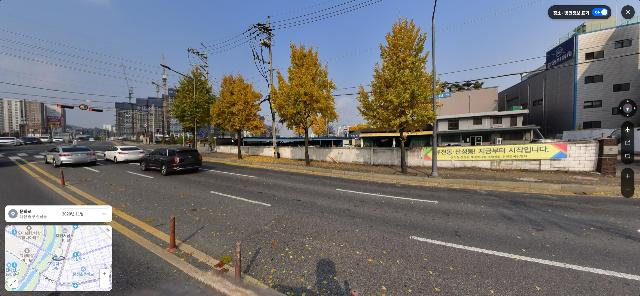ginkgo: (356, 14, 446, 174), (269, 41, 340, 166), (211, 71, 264, 159)
other: (171, 68, 215, 149)
